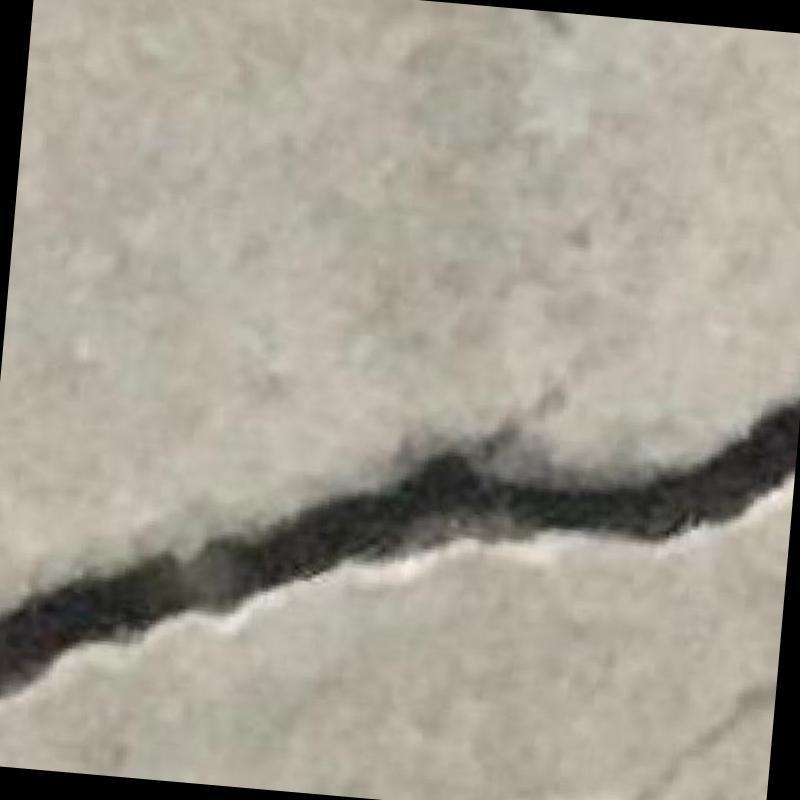pothole: (0, 398, 800, 700)
